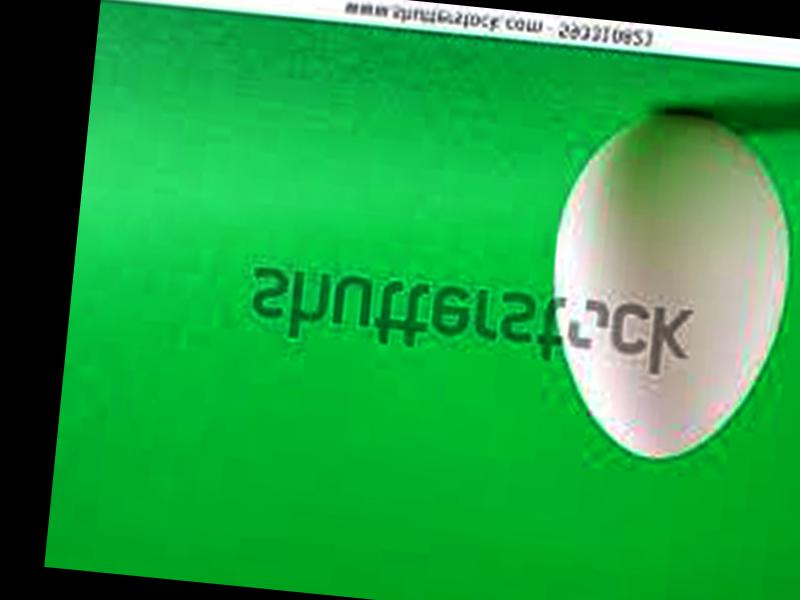Eggs: (536, 96, 800, 468)
